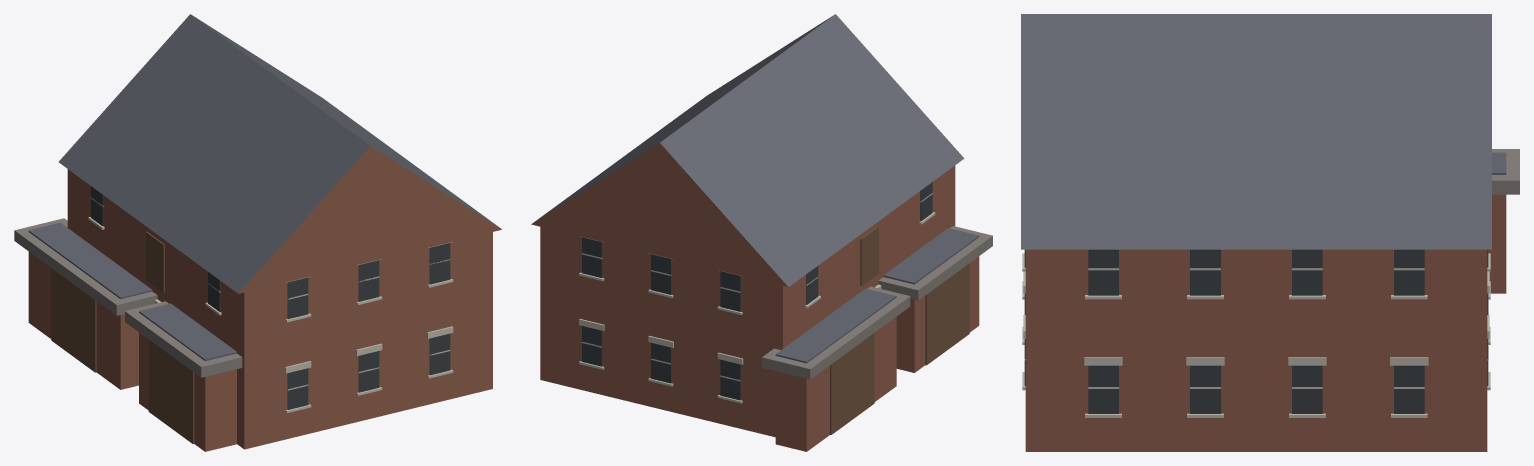
Rendered from house_1900_calumet_coach_house__draft_1904.glb.
3 views of the same model, side by side, from view 1: azimuth 30°, elevation 25°; view 2: azimuth 150°, elevation 25°; view 3: azimuth 270°, elevation 25° (orthographic). The views are drawn at different scales.
Parts seen in each view (by area): view 1: house_1900_calumet_coach_house__draft_1904; view 2: house_1900_calumet_coach_house__draft_1904; view 3: house_1900_calumet_coach_house__draft_1904.
Part boxes in pixels (box(x1,y1,x2,y2)): house_1900_calumet_coach_house__draft_1904: box(14, 14, 501, 451); house_1900_calumet_coach_house__draft_1904: box(531, 14, 992, 451); house_1900_calumet_coach_house__draft_1904: box(1021, 14, 1519, 451).
Size of the model in its own units: 11.65 by 10.29 by 12.97.
